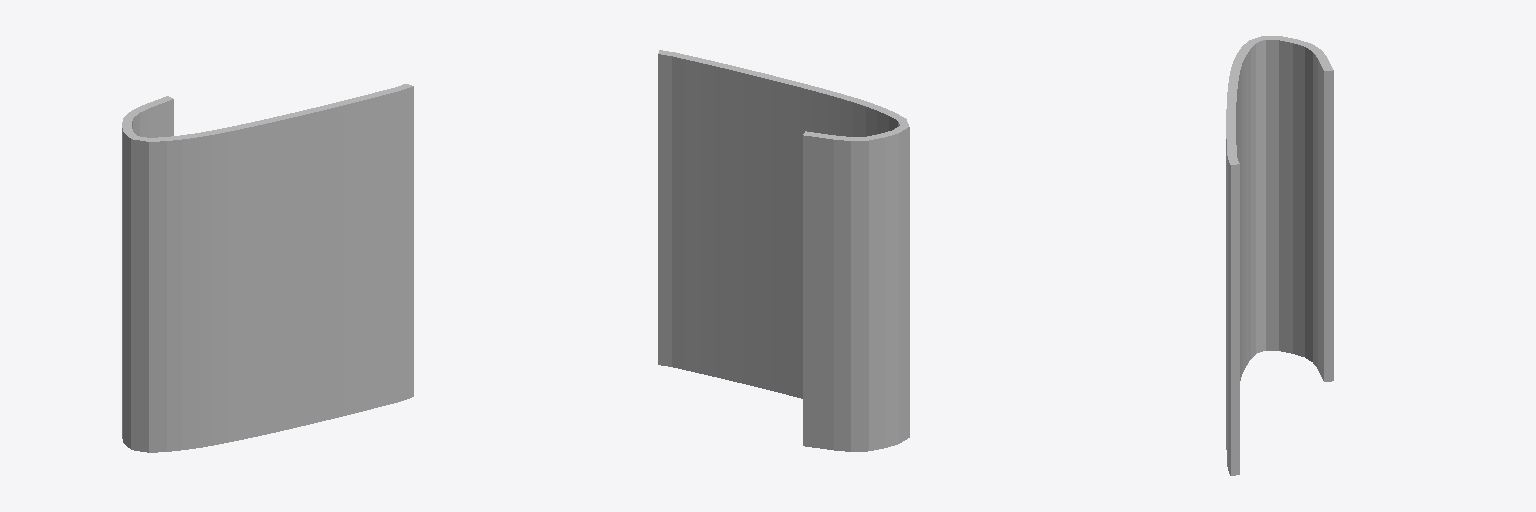
Rendered from SimpleFold2.obj.
3 renders of one model, left to right at view 1: azimuth 30°, elevation 25°; view 2: azimuth 150°, elevation 25°; view 3: azimuth 270°, elevation 25°, orthographic.
Parts seen in each view (by area): view 1: Cube_Cube.001; view 2: Cube_Cube.001; view 3: Cube_Cube.001.
Part boxes in pixels (bbox=[...]): Cube_Cube.001: bbox=[122, 84, 413, 452]; Cube_Cube.001: bbox=[658, 50, 909, 451]; Cube_Cube.001: bbox=[1226, 36, 1333, 475].
Size of the model in its own units: 4.26 by 4.75 by 1.49.